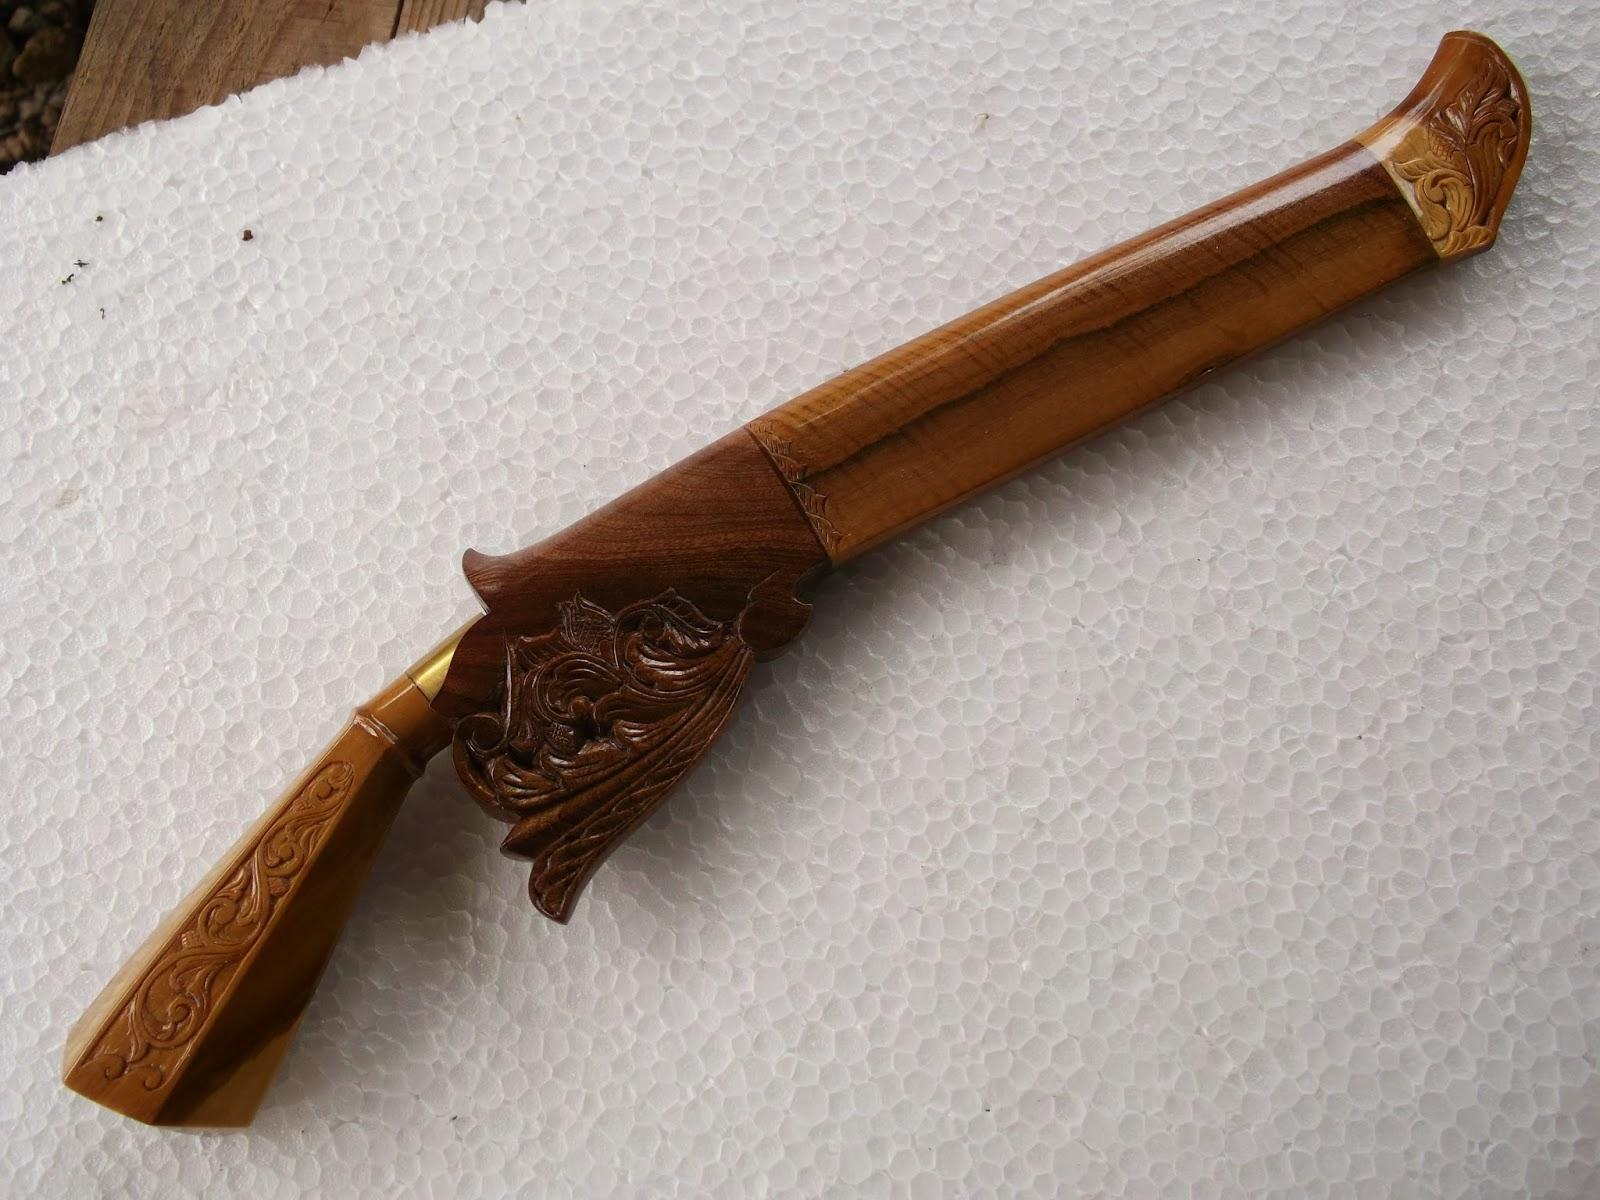facao: (62, 33, 1529, 1127)
